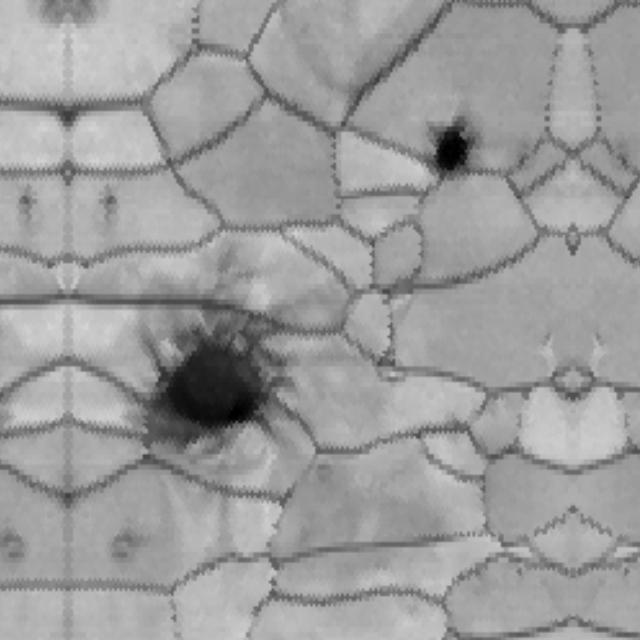good_void: (138, 255, 287, 456), (414, 115, 483, 191), (100, 521, 160, 569), (0, 521, 34, 569), (94, 183, 123, 222), (11, 183, 40, 222), (67, 0, 99, 30), (35, 0, 67, 30), (372, 351, 400, 372)
